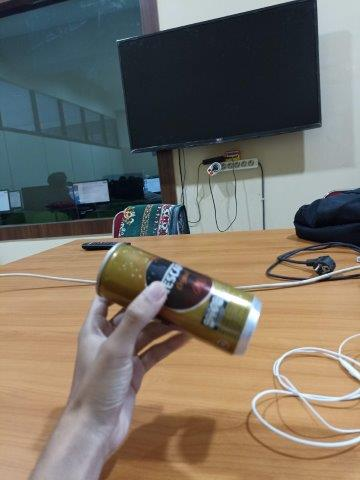kaleng: (96, 242, 263, 355)
